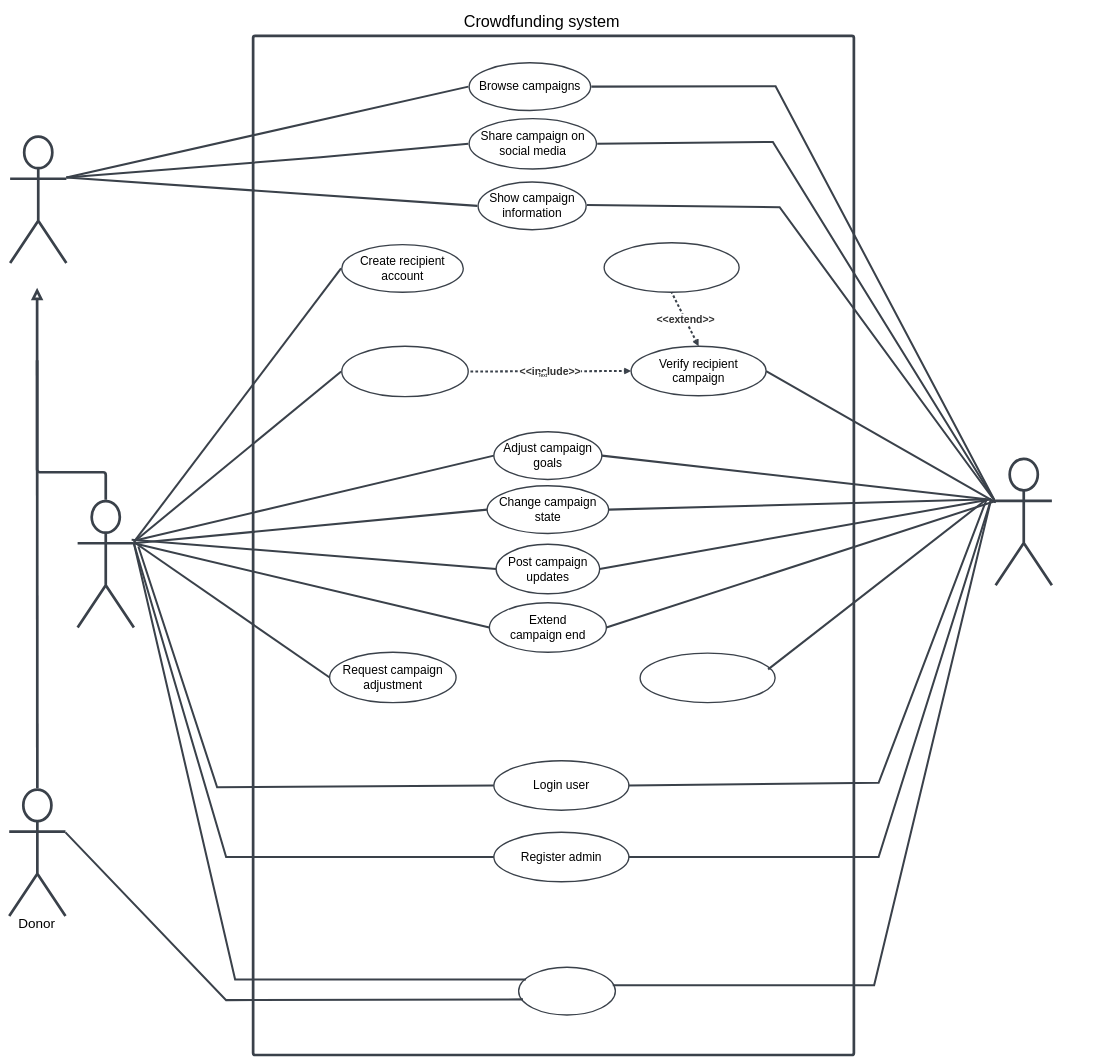
The diagram is 1110 pixels wide and 1064 high, and some of its shapes have lost their labels. Here are the shapes that lost their labels. From the top down, the centre of each, then its label:
At (38,199): "End user".
At (671,267): "Activate recipient campaign".
At (405,371): "Apply for campaign creation".
At (105,564): "Recipient".
At (1023,607): "Platform administrator".
At (707,677): "Manage recipient campaigns".
At (567,990): "Donate to campaign".
